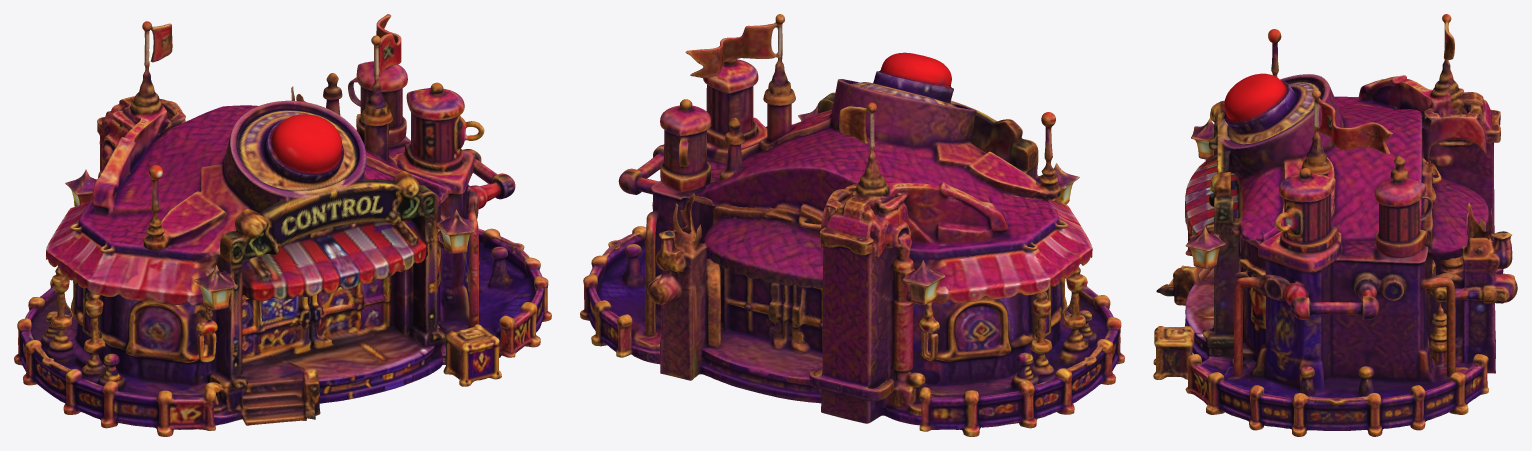
Rendered from Meshy_AI_Carnival_Control_Stat_1022090414_texture.fbx.
3 views of the same model, side by side, from view 1: azimuth 30°, elevation 25°; view 2: azimuth 150°, elevation 25°; view 3: azimuth 270°, elevation 25° (orthographic). The views are drawn at different scales.
Visible parts, largest first — view 1: Mesh_0; view 2: Mesh_0; view 3: Mesh_0.
Boxes of the visible parts, x1,y1,x2,y2 form: Mesh_0: (14,14,551,436); Mesh_0: (580,14,1124,436); Mesh_0: (1153,14,1517,436).
Size of the model in its own units: 189 by 112 by 132.
1 material, 1 textured.
